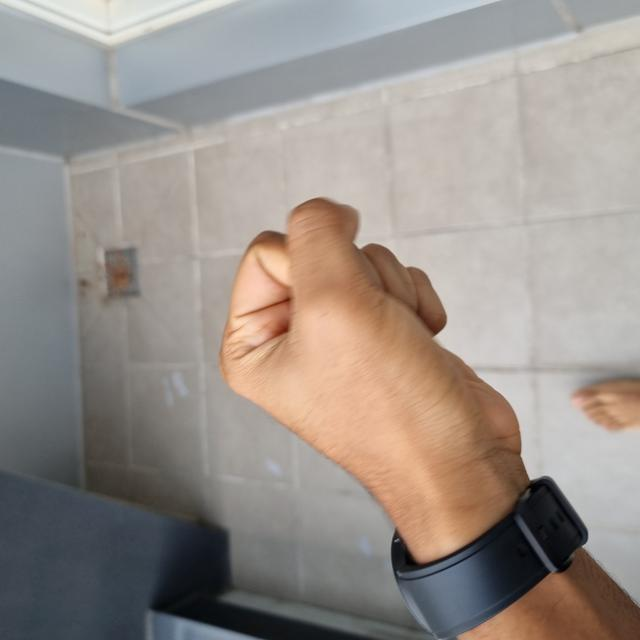Rock: (107, 220, 439, 640)
